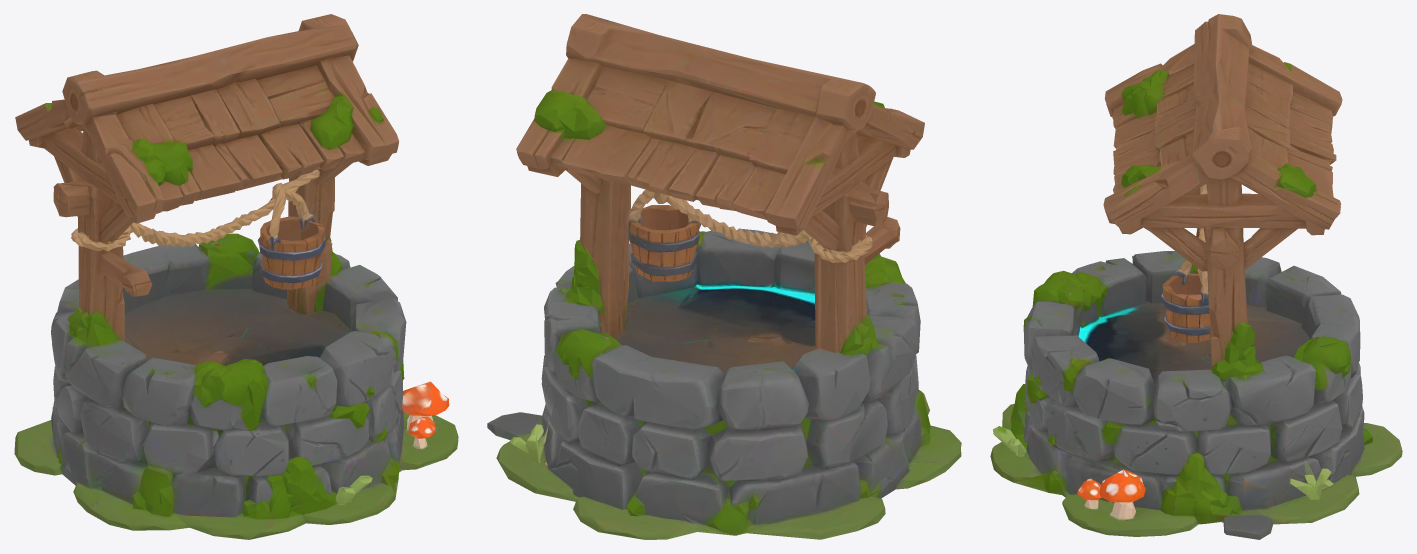
File: old_well.glb
The picture shows the model from 3 angles, left to right: view 1: azimuth 30°, elevation 25°; view 2: azimuth 150°, elevation 25°; view 3: azimuth 270°, elevation 25°; orthographic projection. The views are drawn at different scales.
Size of the model in its own units: 1.86 by 1.89 by 1.9.
Materials: 1 (1 with a texture image).
